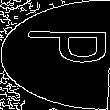P_E: (4, 36, 106, 74)
